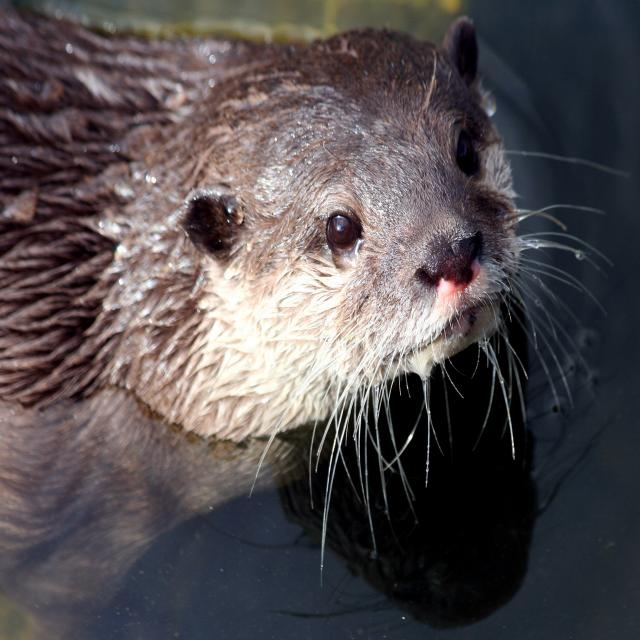otter: (1, 3, 522, 446)
